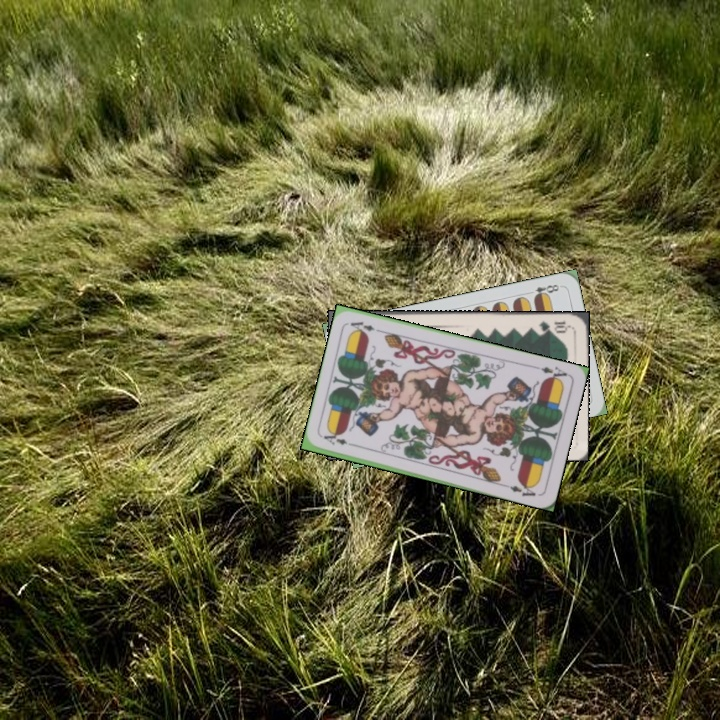E8: (523, 280, 564, 301)
EA: (530, 362, 571, 384), (319, 431, 359, 449)
G10: (534, 316, 572, 335)
